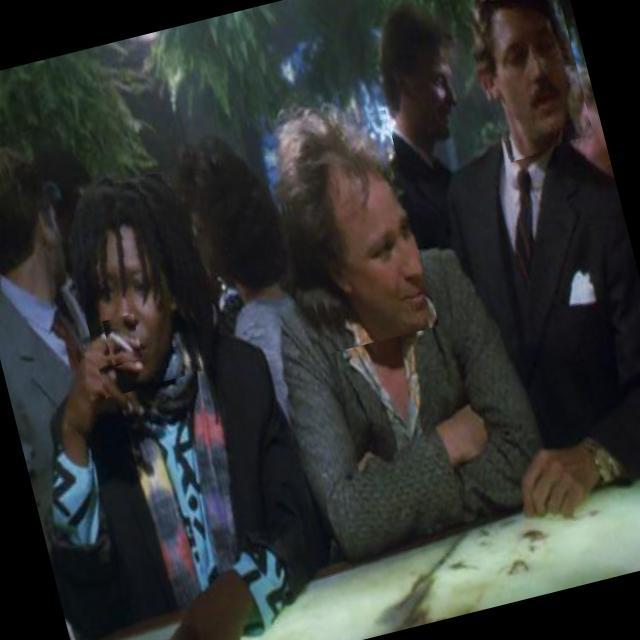cigarette: (102, 314, 144, 366)
